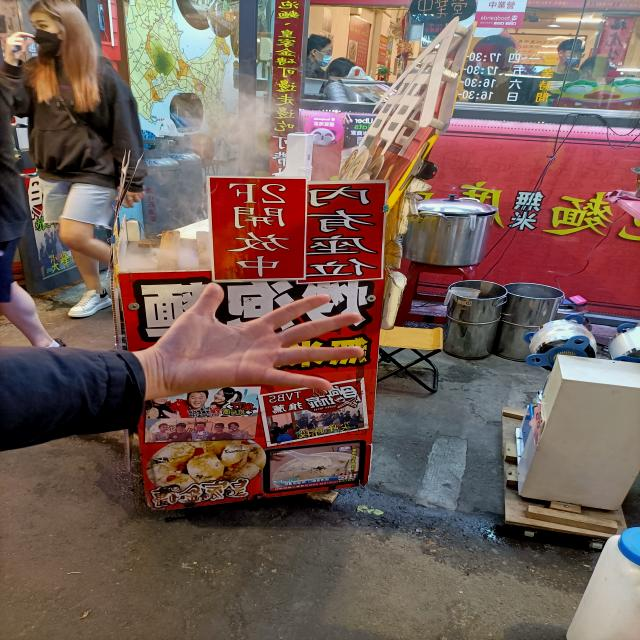no_glove: (126, 276, 381, 420)
